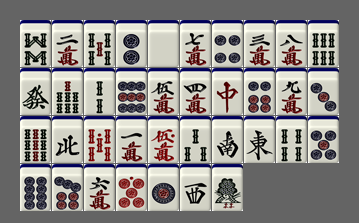0m: (148, 116, 179, 163)
0p: (116, 164, 147, 211)
0s: (84, 116, 115, 163)
1m: (116, 116, 147, 163)
1p: (148, 164, 179, 211)
1s: (212, 164, 243, 211)
1z: (244, 116, 275, 163)
2m: (52, 20, 83, 67)
2p: (116, 20, 147, 67)
2s: (84, 68, 115, 115)
2z: (212, 116, 243, 163)
3m: (244, 20, 275, 67)
3p: (308, 68, 339, 115)
3s: (180, 116, 211, 163)
3z: (180, 164, 211, 211)
4m: (180, 68, 211, 115)
4p: (212, 20, 243, 67)
4s: (276, 116, 307, 163)
4z: (52, 116, 83, 163)
5m: (148, 68, 179, 115)
5p: (308, 116, 339, 163)
5s: (84, 20, 115, 67)
5z: (148, 20, 179, 67)
6m: (84, 164, 115, 211)
6p: (244, 68, 275, 115)
6s: (308, 20, 339, 67)
6z: (20, 68, 51, 115)
7m: (180, 20, 211, 67)
7p: (52, 164, 83, 211)
7s: (52, 68, 83, 115)
7z: (212, 68, 243, 115)
8m: (276, 20, 307, 67)
8p: (20, 164, 51, 211)
8s: (20, 20, 51, 67)
9m: (276, 68, 307, 115)
9p: (116, 68, 147, 115)
9s: (20, 116, 51, 163)
